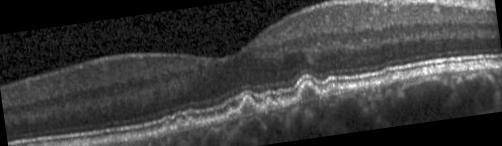retinal_drusen: (298, 83, 322, 105), (240, 97, 256, 117), (382, 71, 402, 85), (263, 102, 276, 112), (327, 86, 340, 95), (165, 122, 173, 136), (176, 121, 184, 131), (227, 112, 238, 119), (188, 120, 195, 129)
